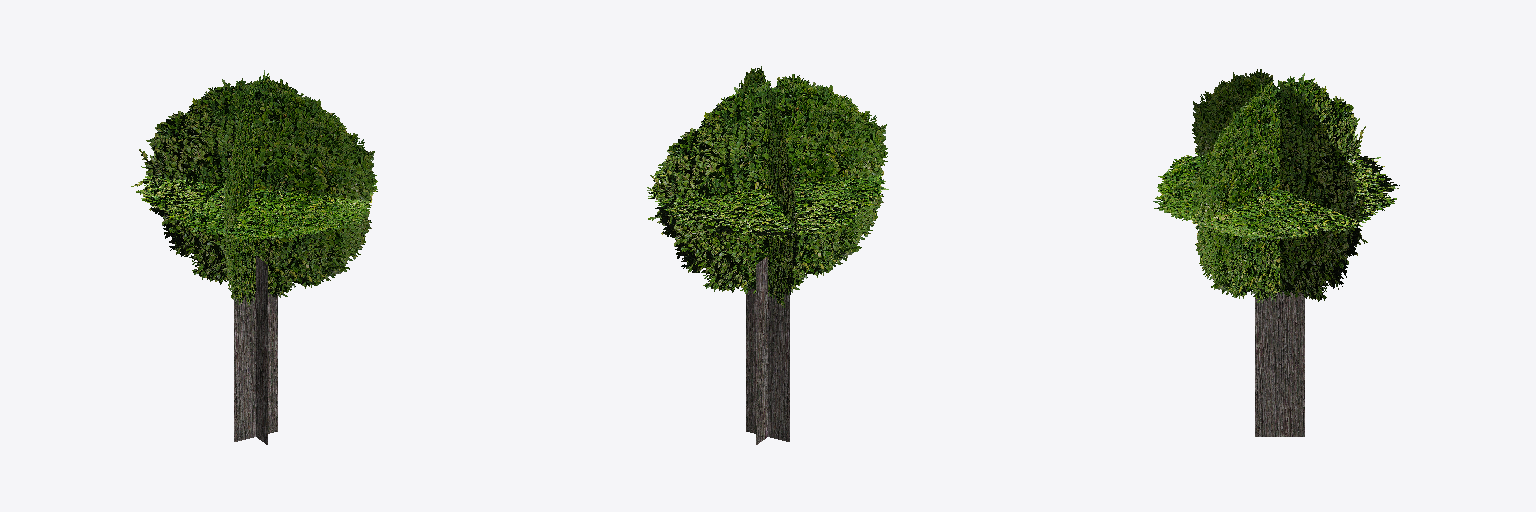
3 renders of one model, left to right at view 1: azimuth 30°, elevation 25°; view 2: azimuth 150°, elevation 25°; view 3: azimuth 270°, elevation 25°, orthographic.
Parts seen in each view (by area): view 1: Plane.004_Plane.008, Plane.002_Plane.007, Plane.003_Plane.006, Plane.001_Plane.009, Plane.000_Plane.002; view 2: Plane.003_Plane.006, Plane.002_Plane.007, Plane.001_Plane.009, Plane.004_Plane.008, Plane.000_Plane.002; view 3: Plane.004_Plane.008, Plane.003_Plane.006, Plane.002_Plane.007, Plane.000_Plane.002.
Boxes of the visible parts, x1=… form: Plane.004_Plane.008: x1=136, y1=78, x2=375, y2=297; Plane.002_Plane.007: x1=131, y1=166, x2=377, y2=240; Plane.003_Plane.006: x1=224, y1=70, x2=270, y2=306; Plane.001_Plane.009: x1=234, y1=293, x2=277, y2=441; Plane.000_Plane.002: x1=256, y1=256, x2=267, y2=444; Plane.003_Plane.006: x1=648, y1=74, x2=887, y2=293; Plane.002_Plane.007: x1=647, y1=159, x2=888, y2=240; Plane.001_Plane.009: x1=746, y1=288, x2=789, y2=441; Plane.004_Plane.008: x1=739, y1=66, x2=799, y2=307; Plane.000_Plane.002: x1=756, y1=256, x2=767, y2=444; Plane.004_Plane.008: x1=1192, y1=73, x2=1365, y2=302; Plane.003_Plane.006: x1=1192, y1=69, x2=1367, y2=301; Plane.002_Plane.007: x1=1153, y1=153, x2=1399, y2=240; Plane.000_Plane.002: x1=1255, y1=291, x2=1304, y2=436.
Bounding box in the file's own units: 7.07 × 8 × 7.07.
Materials: 5 (1 with a texture image).